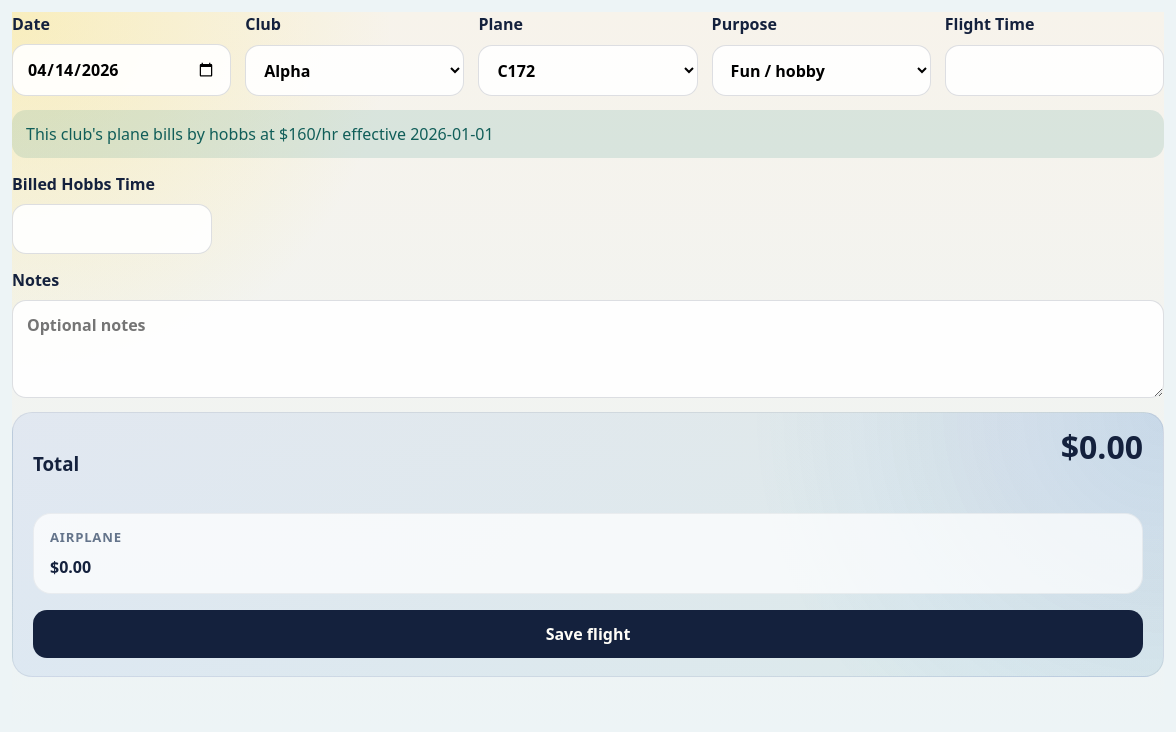
Scenario: FlightEntryForm › shows airplane, instructor, and total spend preview for training flights
Expected: the dropdown showing "Alpha" is shown, [245,45,464,96]
Select "Flight training" in the dropdown labelled "Purpose" at (821, 70), box [712,45,931,96]
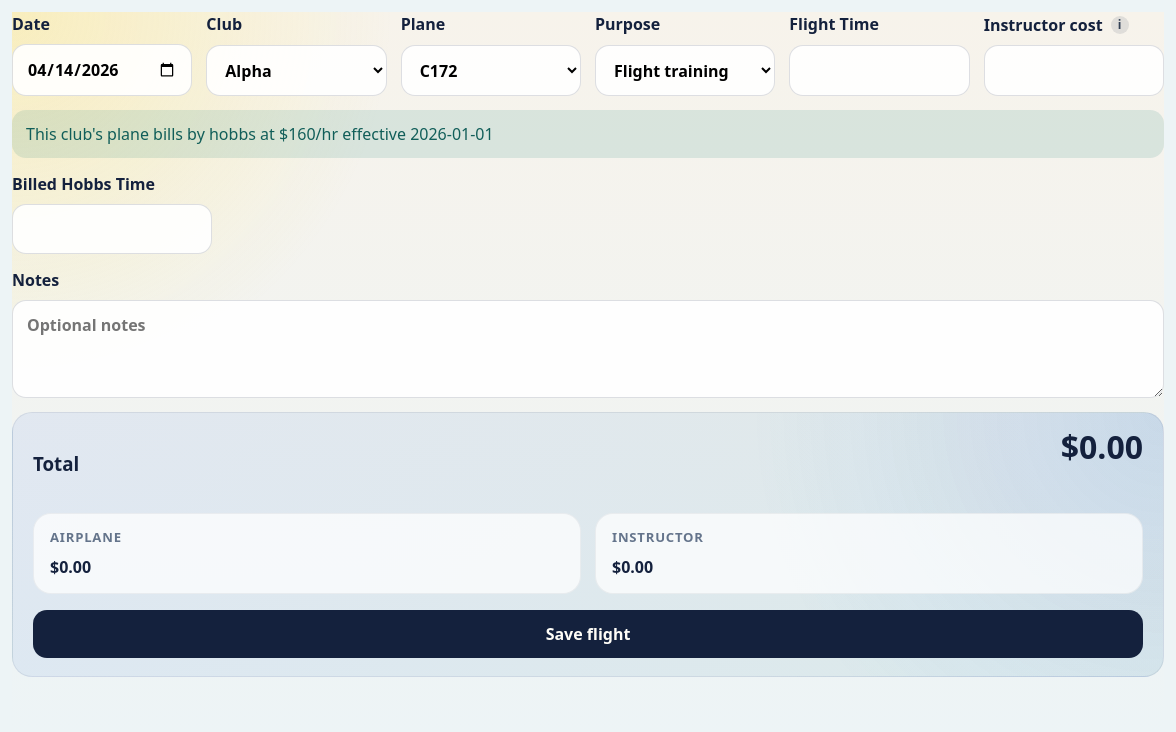
Type "1.5" into the number field labelled "Flight Time" at (879, 70), box [789,45,970,96]
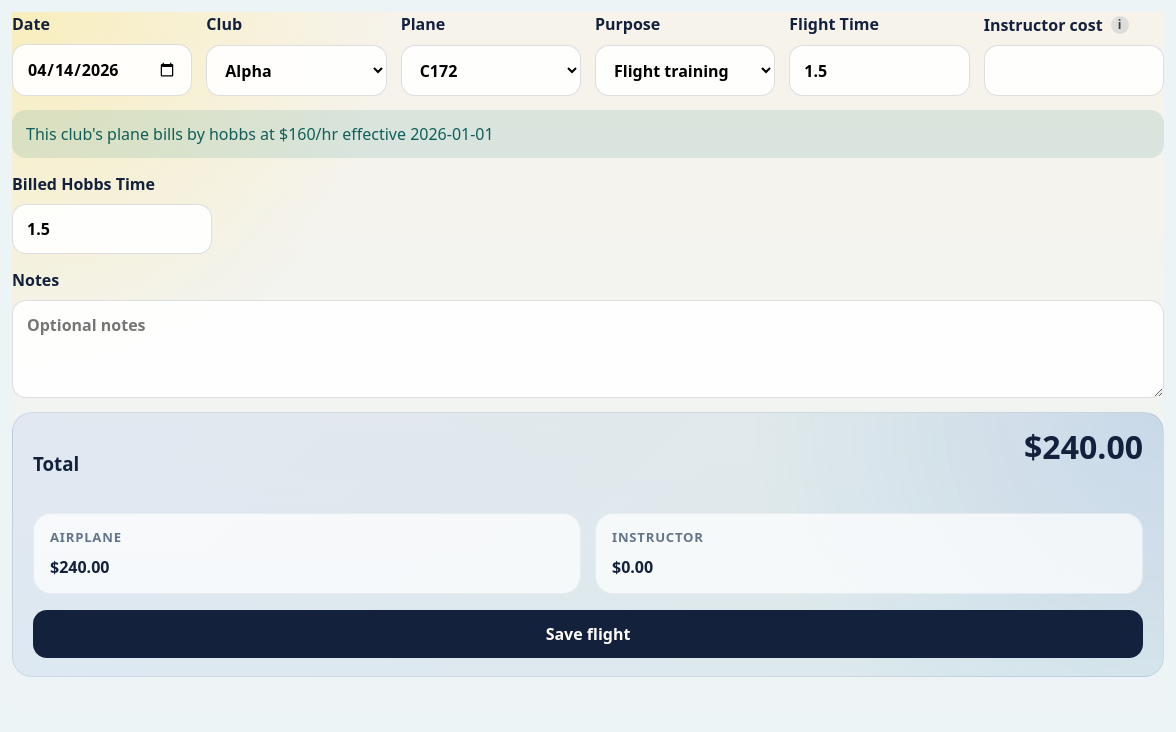
Type "75" into the 2nd number field at (1074, 70), box [984,45,1164,96]
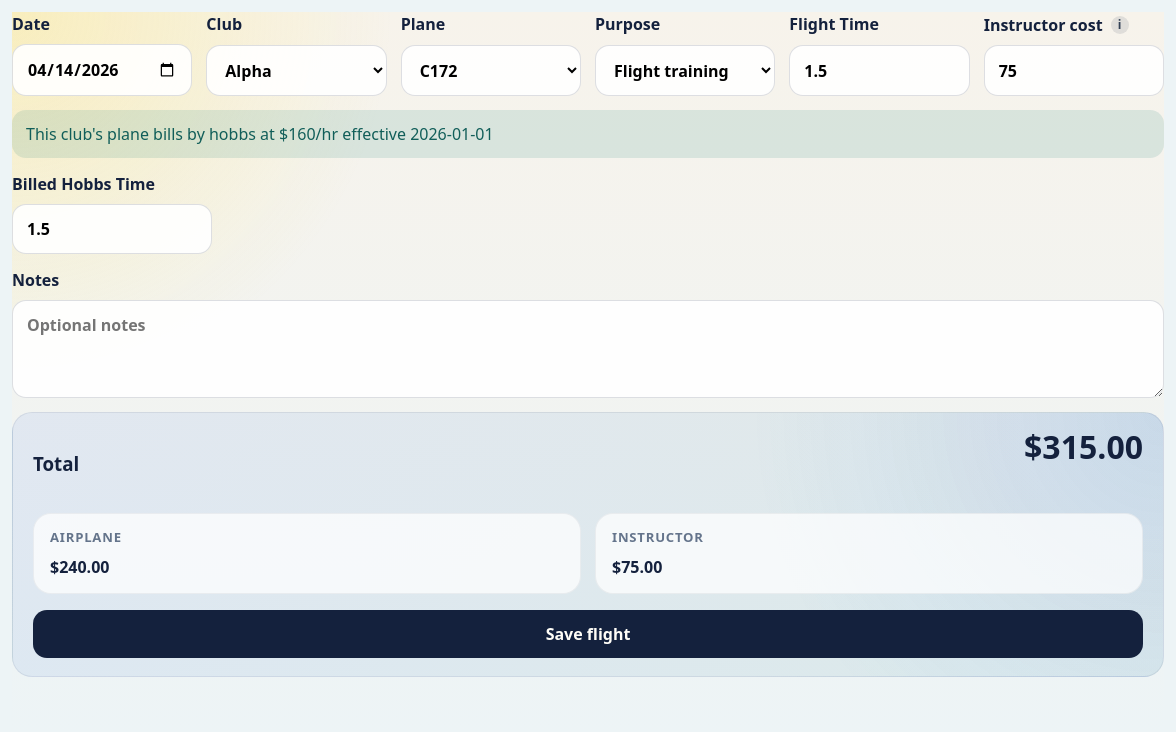
Expected: the text "Instructor" is shown, [612,528,704,546]
Expected: the text "$240.00" is shown, [50,556,110,578]
Expected: the text "$315.00" is shown, [1024,431,1143,463]
